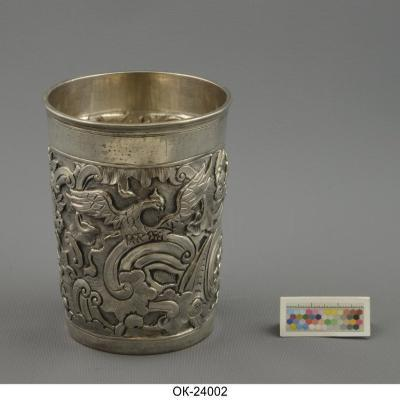dpi: (42, 72, 232, 357)
